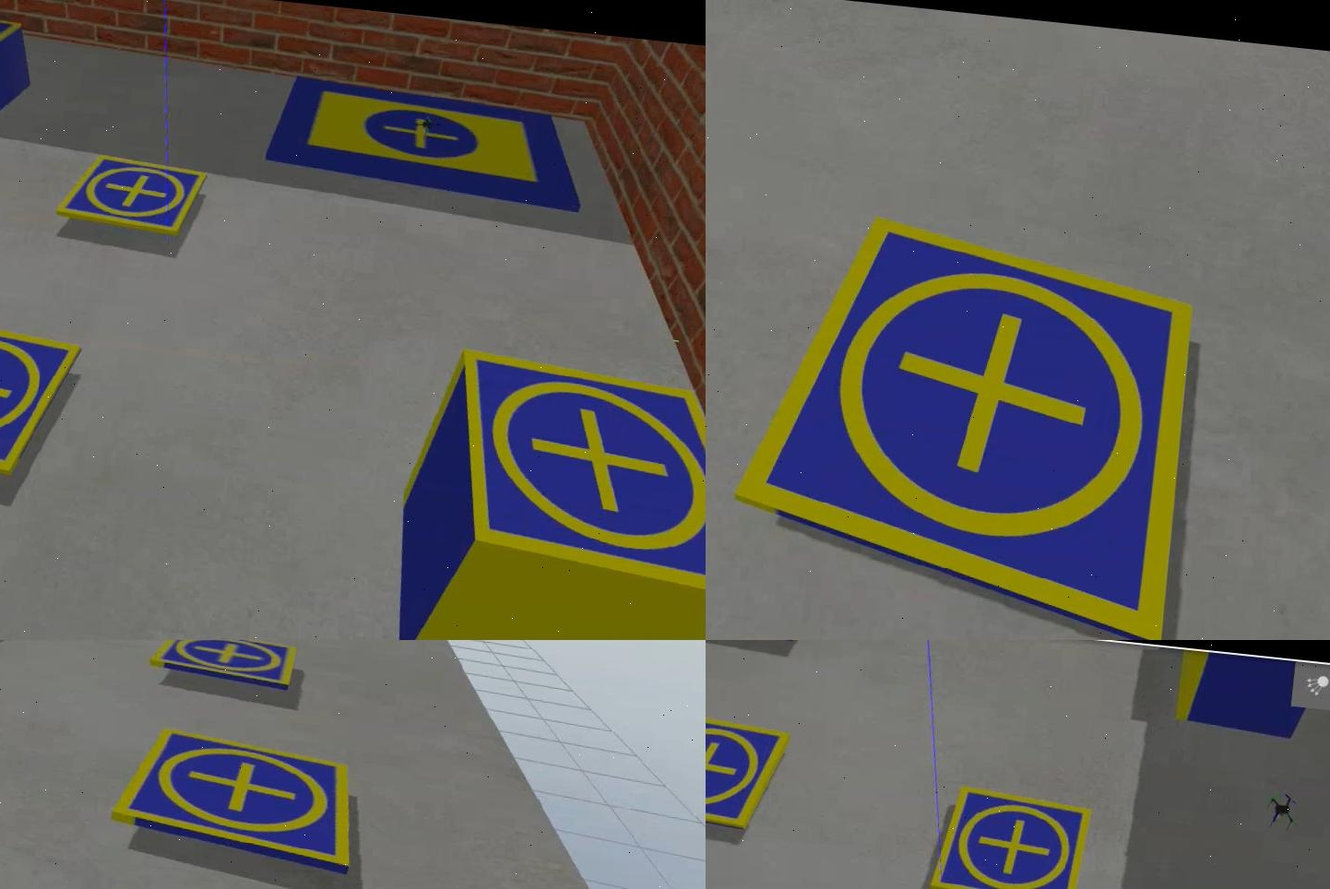large_base: (259, 72, 590, 214)
small_base: (717, 202, 1203, 641), (434, 349, 705, 598), (106, 725, 359, 879), (928, 783, 1093, 889), (0, 302, 87, 483), (53, 150, 208, 240), (705, 705, 792, 835), (145, 641, 299, 690)
